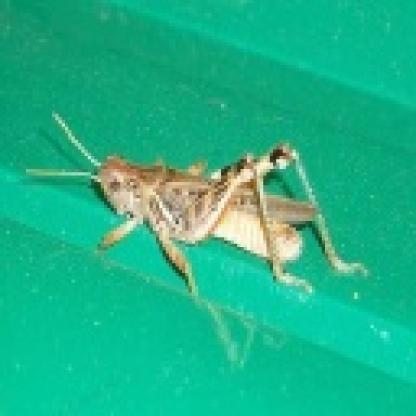grasshopper: (49, 114, 370, 294)
